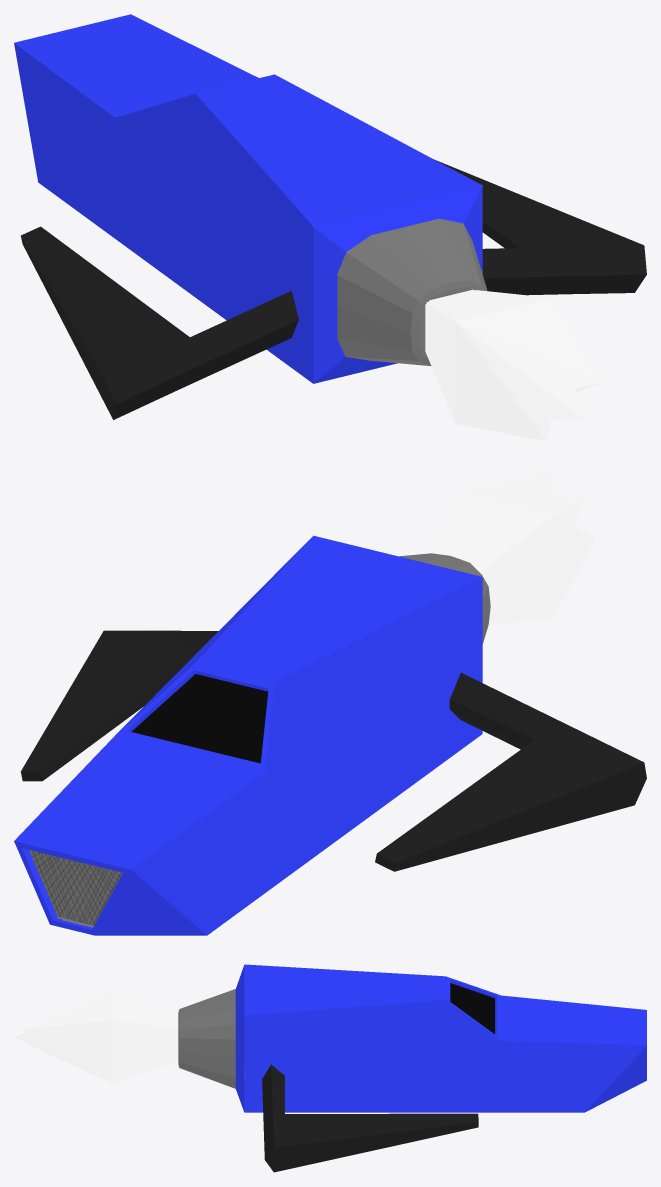
Rendered from Nave_Juego.glb.
The picture shows the model from 3 angles, top to bottom: view 1: azimuth 30°, elevation 25°; view 2: azimuth 150°, elevation 25°; view 3: azimuth 270°, elevation 25°; orthographic projection. The views are drawn at different scales.
Visible parts, largest first — view 1: Ala Izquierda, Fuego; view 2: Ala Izquierda, Fuego; view 3: Ala Izquierda, Fuego.
Part boxes in pixels (<box>): Ala Izquierda: <box>14,14,646,419</box>; Fuego: <box>425,289,601,441</box>; Ala Izquierda: <box>14,535,646,935</box>; Fuego: <box>430,470,595,624</box>; Ala Izquierda: <box>178,964,646,1172</box>; Fuego: <box>14,991,178,1083</box>.
Bounding box in the file's own units: 6.39 × 1.93 × 10.48.
Materials: 3 (2 with a texture image).
